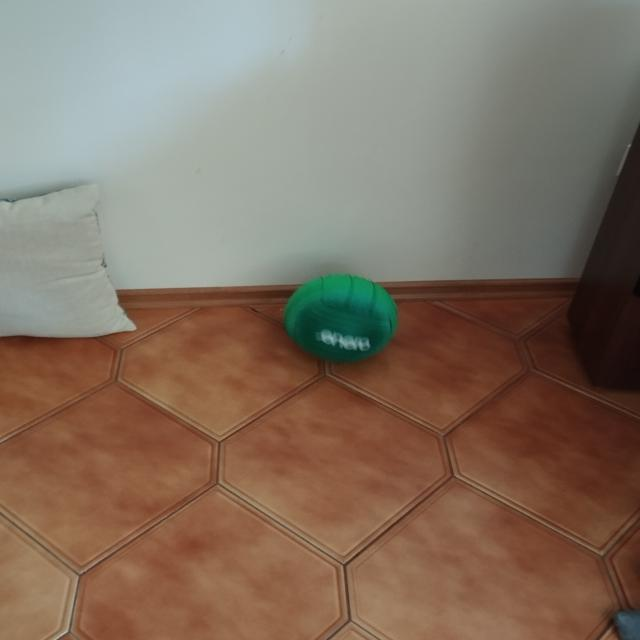zielona: (283, 276, 399, 359)
